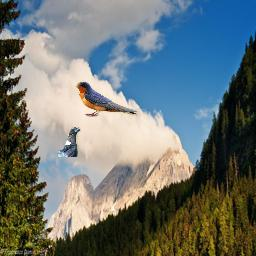Crow: (58, 127, 81, 157)
Swallow: (74, 80, 138, 118)
